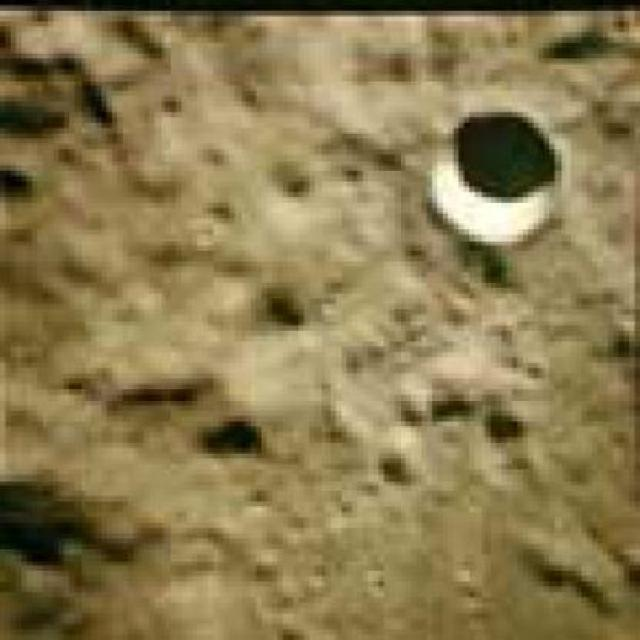crater: (436, 111, 562, 238)
